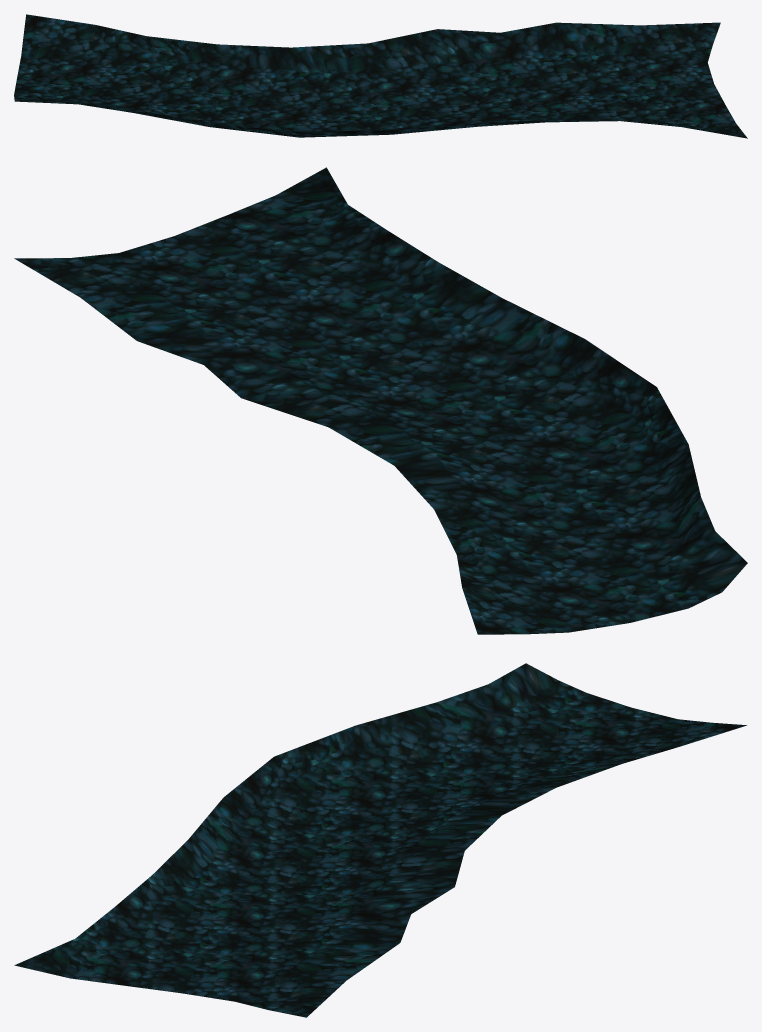
The model's file is HTOWN01_PS16.fbx.
3 renders of one model, top to bottom at view 1: azimuth 30°, elevation 25°; view 2: azimuth 150°, elevation 25°; view 3: azimuth 270°, elevation 25°, orthographic. The views are drawn at different scales.
Visible parts, largest first — view 1: HTOWN01_PS16; view 2: HTOWN01_PS16; view 3: HTOWN01_PS16.
Part boxes in pixels (box(x1,y1,x2,y2)): HTOWN01_PS16: box(14, 14, 747, 138); HTOWN01_PS16: box(14, 167, 747, 634); HTOWN01_PS16: box(14, 663, 746, 1017).
Bounding box in the file's own units: 450818 × 16819 × 397379.
Materials: 1 (1 with a texture image).
